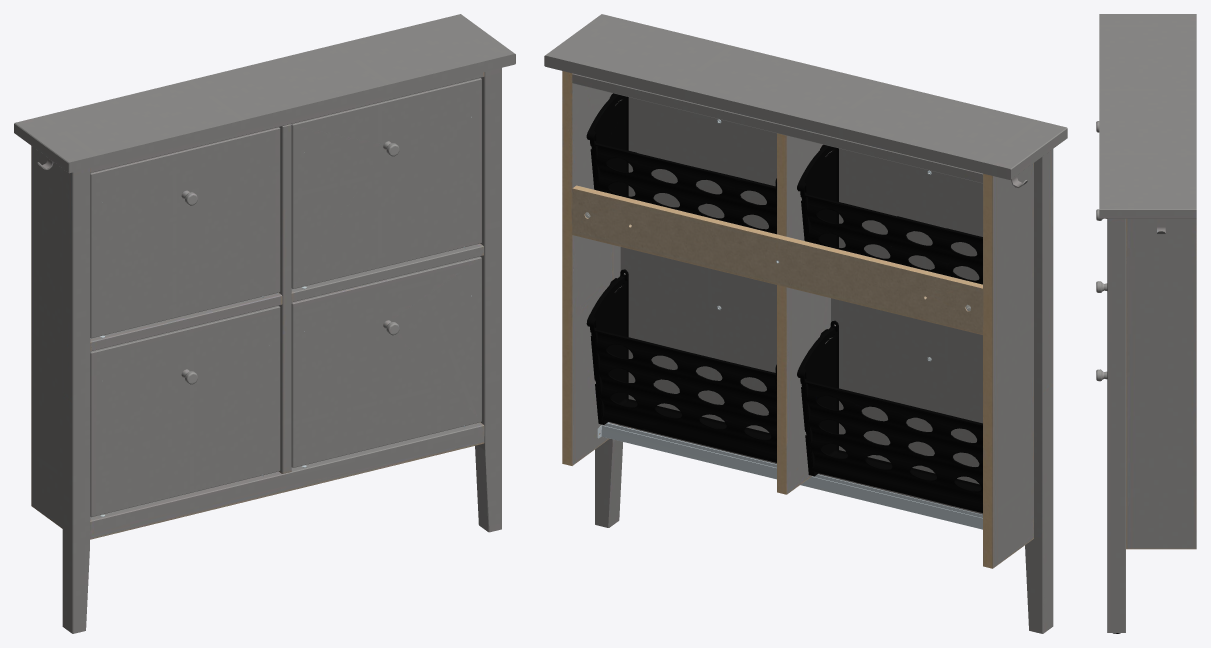
File: gullaberg_szafka_na_buty_4_przegrody_10587707.glb
3 renders of one model, left to right at view 1: azimuth 30°, elevation 25°; view 2: azimuth 150°, elevation 25°; view 3: azimuth 270°, elevation 25°, orthographic. The views are drawn at different scales.
Parts seen in each view (by area): view 1: gullaberg_szafka_na_buty_4_przegrody_10587707; view 2: gullaberg_szafka_na_buty_4_przegrody_10587707; view 3: gullaberg_szafka_na_buty_4_przegrody_10587707.
Part boxes in pixels (left/top/right/bottom): gullaberg_szafka_na_buty_4_przegrody_10587707: left=14, top=14, right=515, bottom=633; gullaberg_szafka_na_buty_4_przegrody_10587707: left=544, top=14, right=1067, bottom=633; gullaberg_szafka_na_buty_4_przegrody_10587707: left=1096, top=14, right=1196, bottom=633.
Size of the model in its own units: 1.05 by 1.07 by 0.227.
5 materials, 5 textured.
